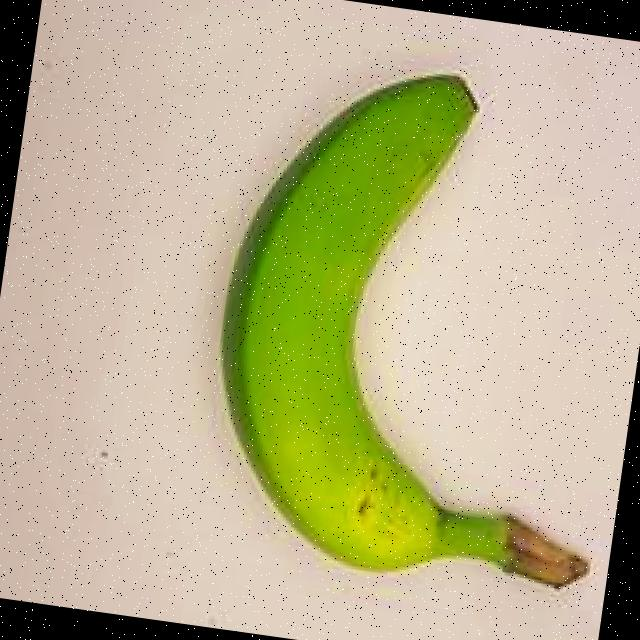Unripe: (185, 22, 640, 625)
